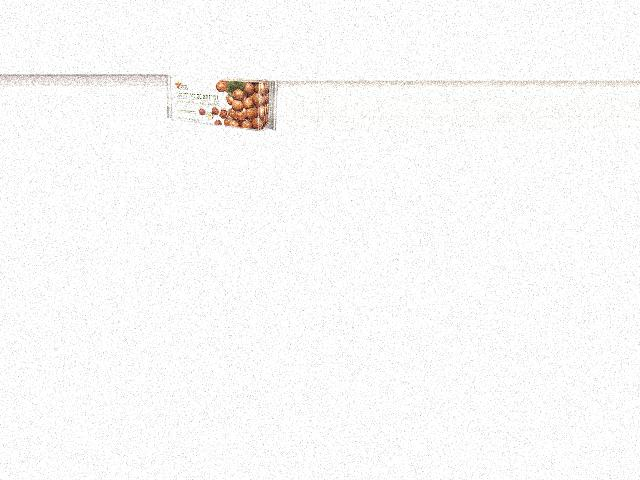chocolate: (165, 78, 276, 131)
